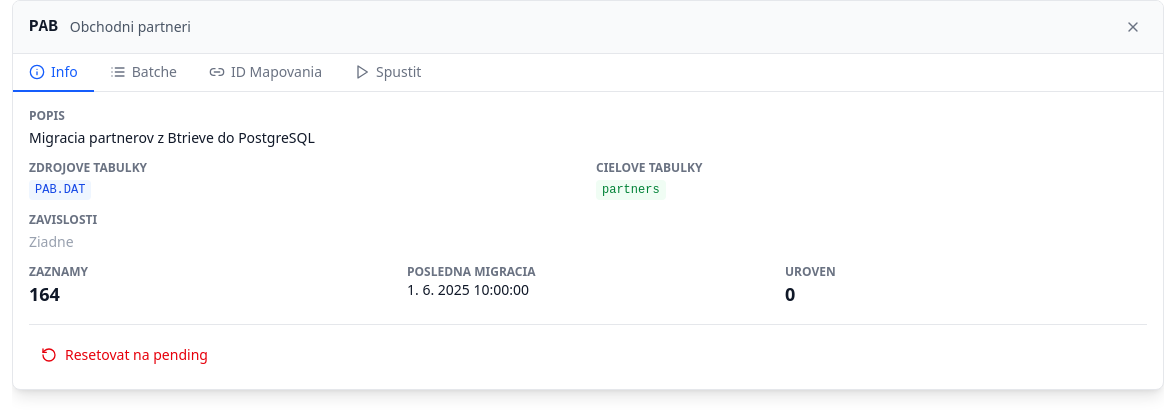
Scenario: CategoryDetail › shows batches error state
The image size is (1164, 416).
Click the button "Batche": (143, 73) [94,54,193,92]
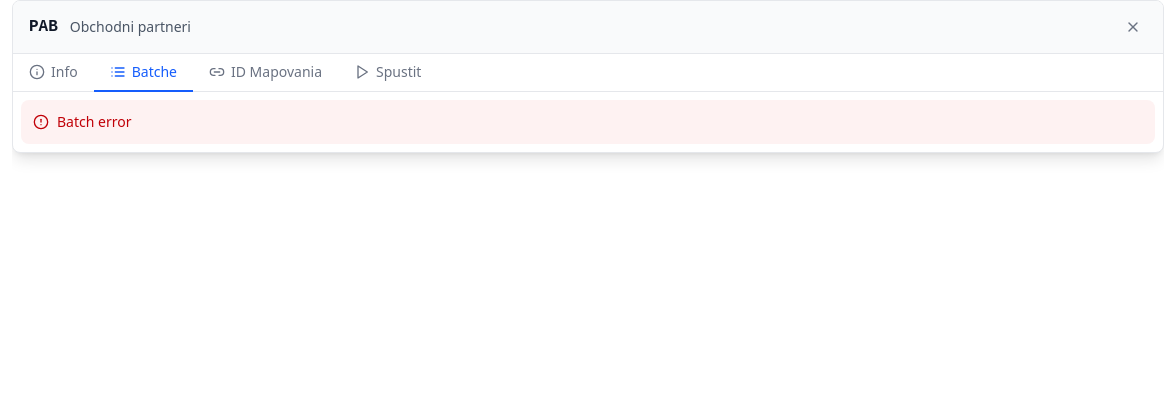
Result: the text "Batch error" is shown at [21,100,1155,144]
